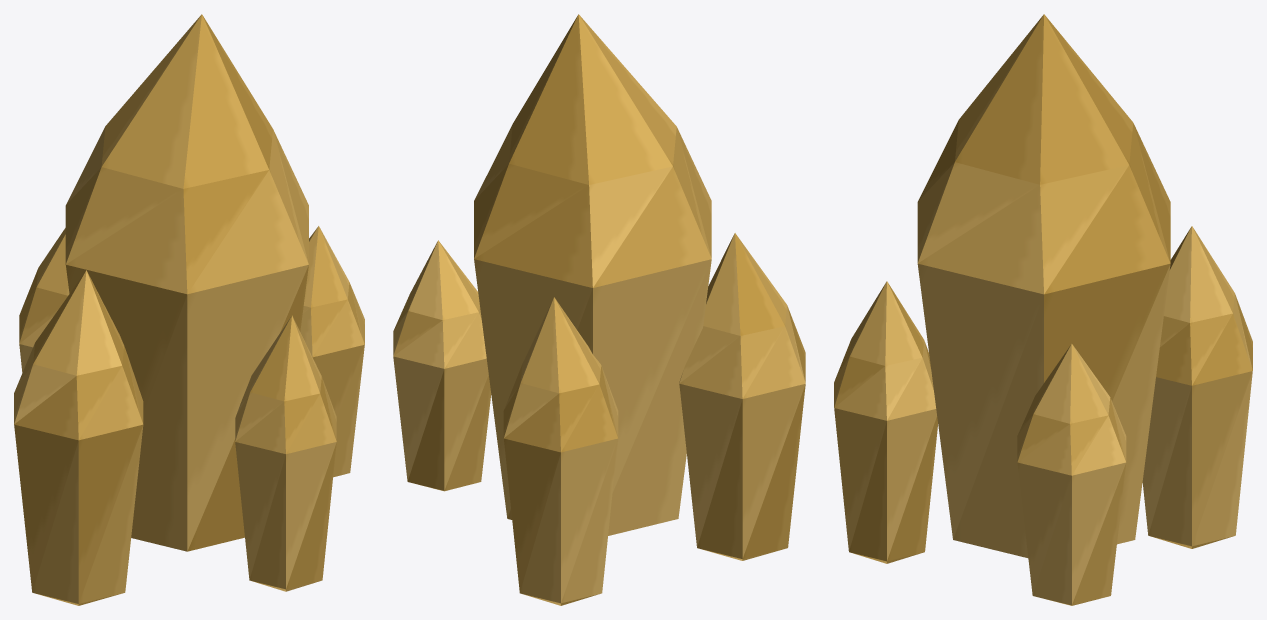
The model's file is advanced.obj.
3 renders of one model, left to right at view 1: azimuth 30°, elevation 25°; view 2: azimuth 150°, elevation 25°; view 3: azimuth 270°, elevation 25°, orthographic. The views are drawn at different scales.
Bounding box in the file's own units: 0.251 × 0.3355 × 0.2265.
Materials: 1 (1 with a texture image).
